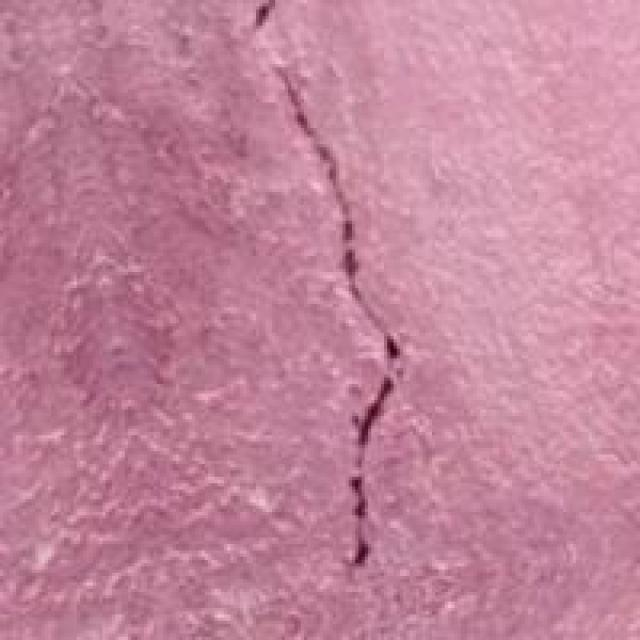Crack: (227, 0, 432, 576)
